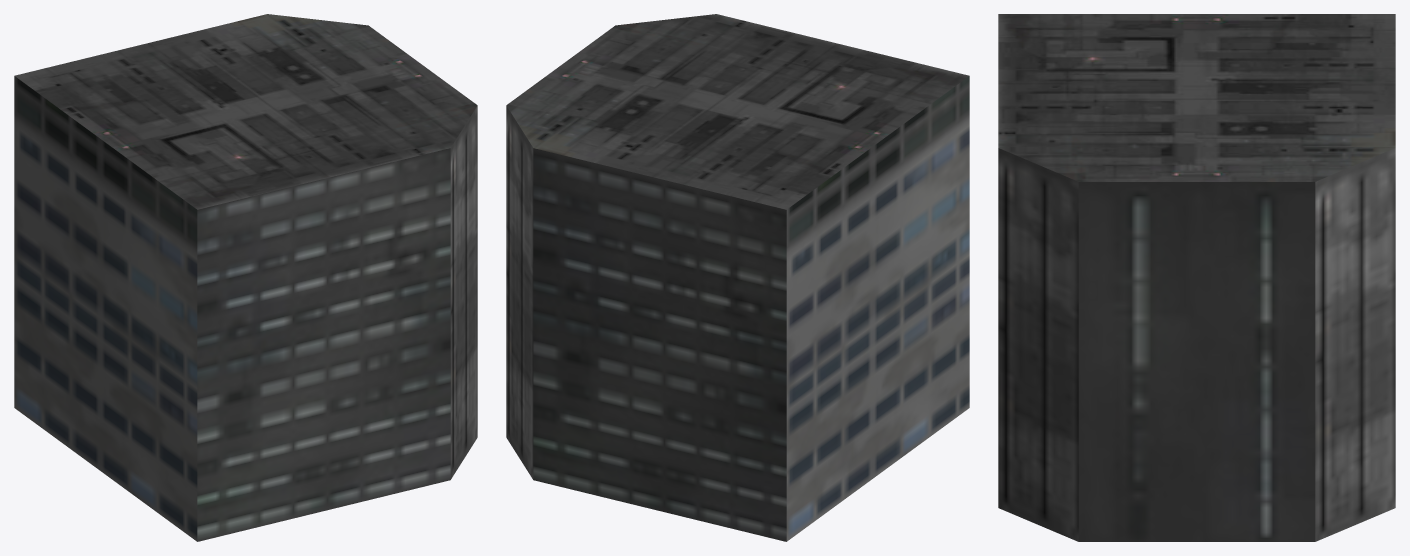
The model's file is scifi_building_9.obj.
The picture shows the model from 3 angles, left to right: view 1: azimuth 30°, elevation 25°; view 2: azimuth 150°, elevation 25°; view 3: azimuth 270°, elevation 25°; orthographic projection. The views are drawn at different scales.
Visible parts, largest first — view 1: building_9; view 2: building_9; view 3: building_9.
Boxes of the visible parts, x1,y1,x2,y2 form: building_9: [14, 14, 477, 541]; building_9: [506, 14, 969, 541]; building_9: [998, 14, 1395, 541].
Size of the model in its own units: 46.76 by 46.79 by 46.76.
Materials: 1 (1 with a texture image).
